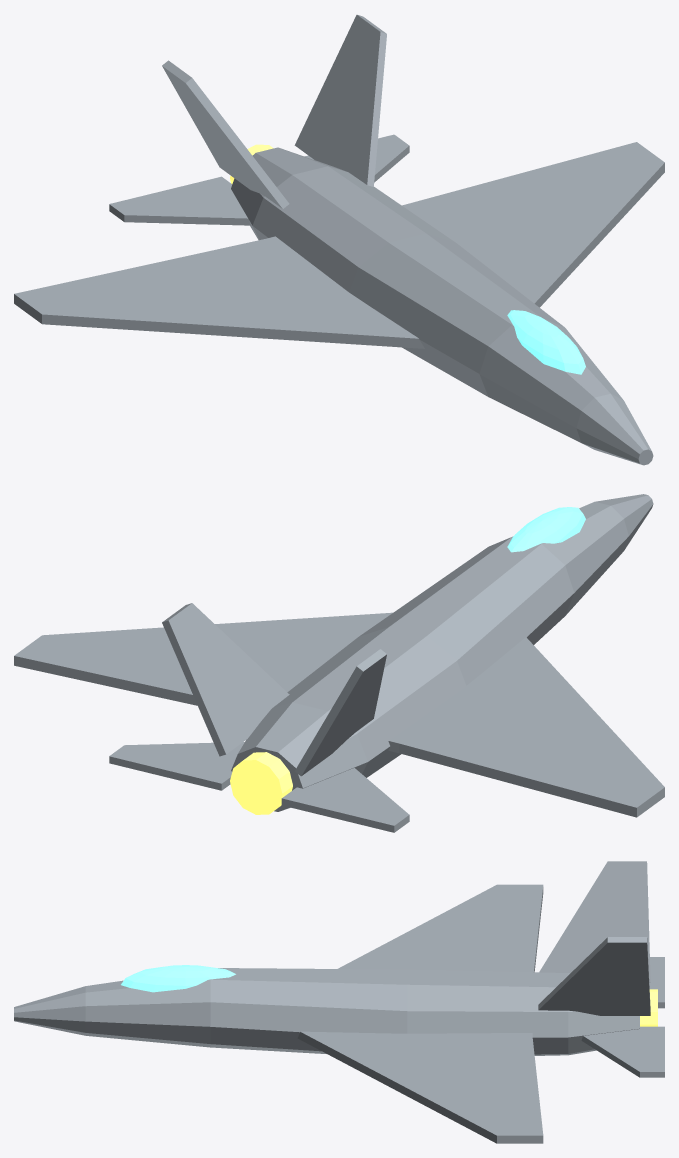
The model's file is fighter.glb.
The picture shows the model from 3 angles, top to bottom: view 1: azimuth 30°, elevation 25°; view 2: azimuth 150°, elevation 25°; view 3: azimuth 270°, elevation 25°; orthographic projection. The views are drawn at different scales.
Parts seen in each view (by area): view 1: fighter; view 2: fighter; view 3: fighter.
Part boxes in pixels (bbox=[...]): fighter: bbox=[14, 14, 664, 465]; fighter: bbox=[14, 494, 664, 832]; fighter: bbox=[14, 861, 664, 1143].
Bounding box in the file's own units: 0.9121 × 0.2577 × 1.
